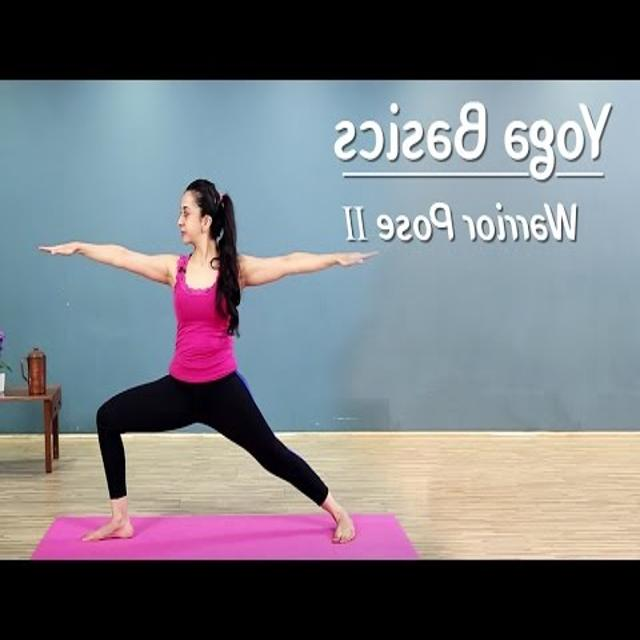Warrior_II: (40, 177, 385, 547)
